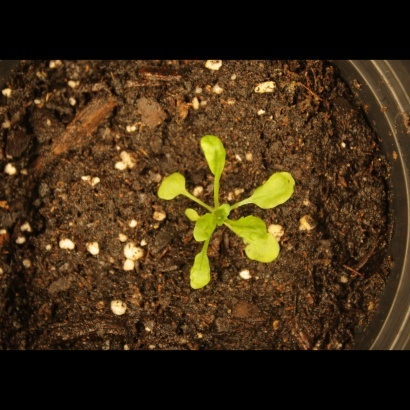leaf: (234, 215, 288, 265), (245, 166, 303, 211), (196, 131, 234, 182), (183, 249, 220, 295), (153, 171, 192, 205), (185, 215, 218, 245), (179, 209, 202, 232), (215, 204, 238, 227)
